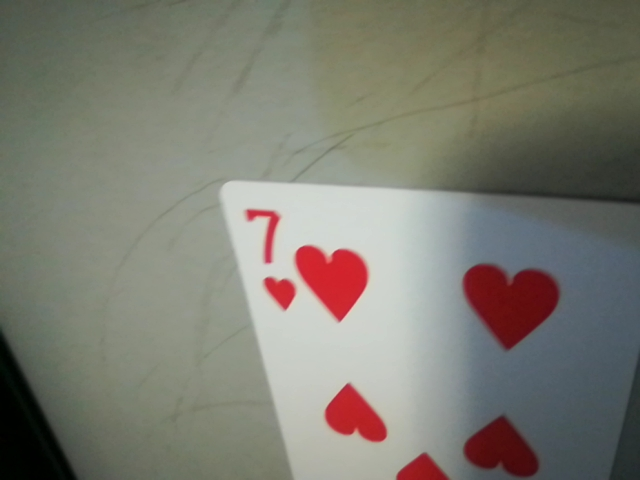hx 7: (235, 196, 299, 318)
